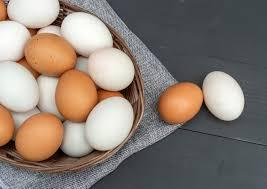egg: (12, 110, 66, 164), (83, 95, 133, 148), (202, 68, 248, 122), (85, 44, 134, 92), (25, 31, 76, 77), (62, 12, 115, 56), (157, 79, 203, 127), (55, 68, 96, 121), (0, 59, 39, 114), (7, 1, 64, 32)
